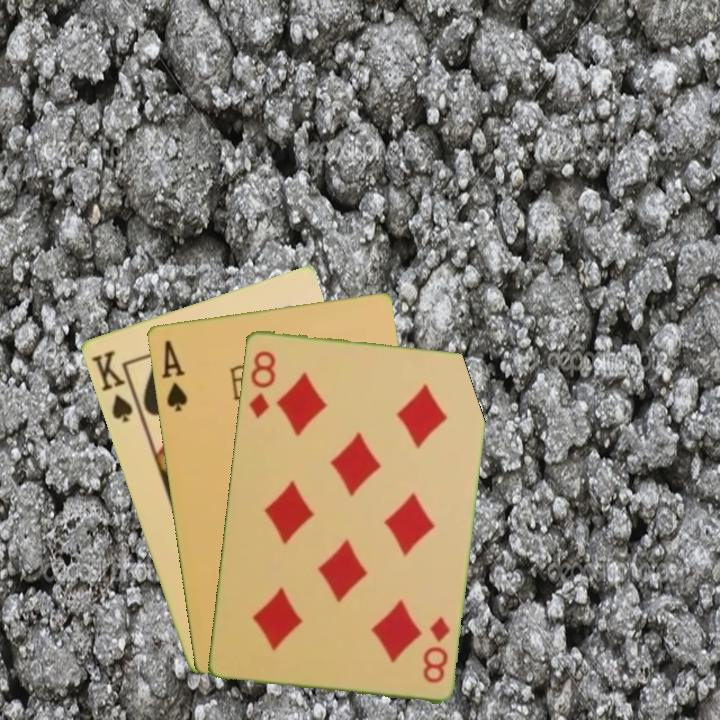8d: (419, 612, 453, 686), (245, 346, 278, 421)
As: (157, 336, 190, 415)
Ks: (87, 346, 143, 425)
